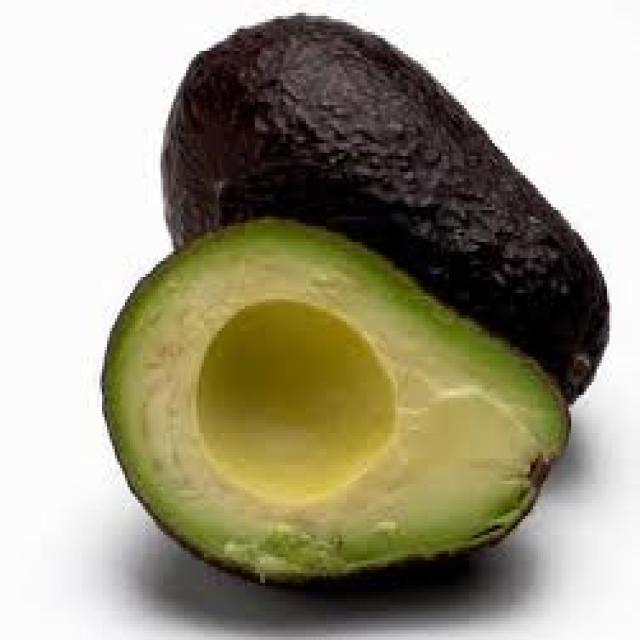Avocado: (84, 200, 581, 602)
